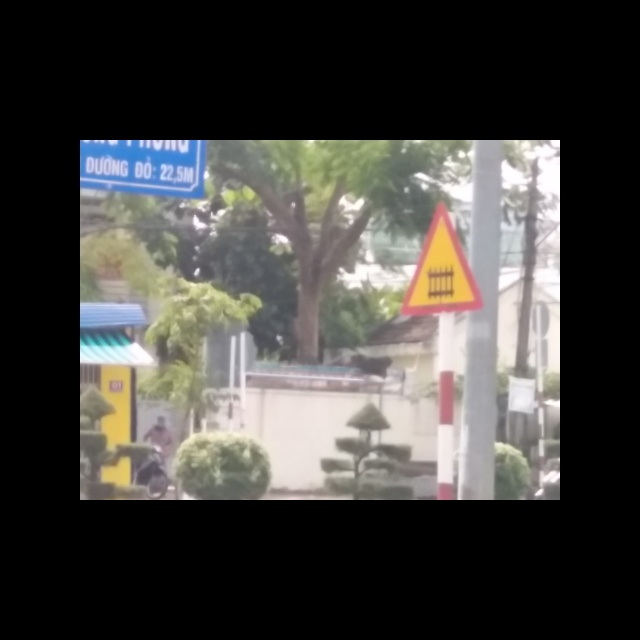Giao nhau với đường sắt có rào chắn: (397, 199, 487, 314)
